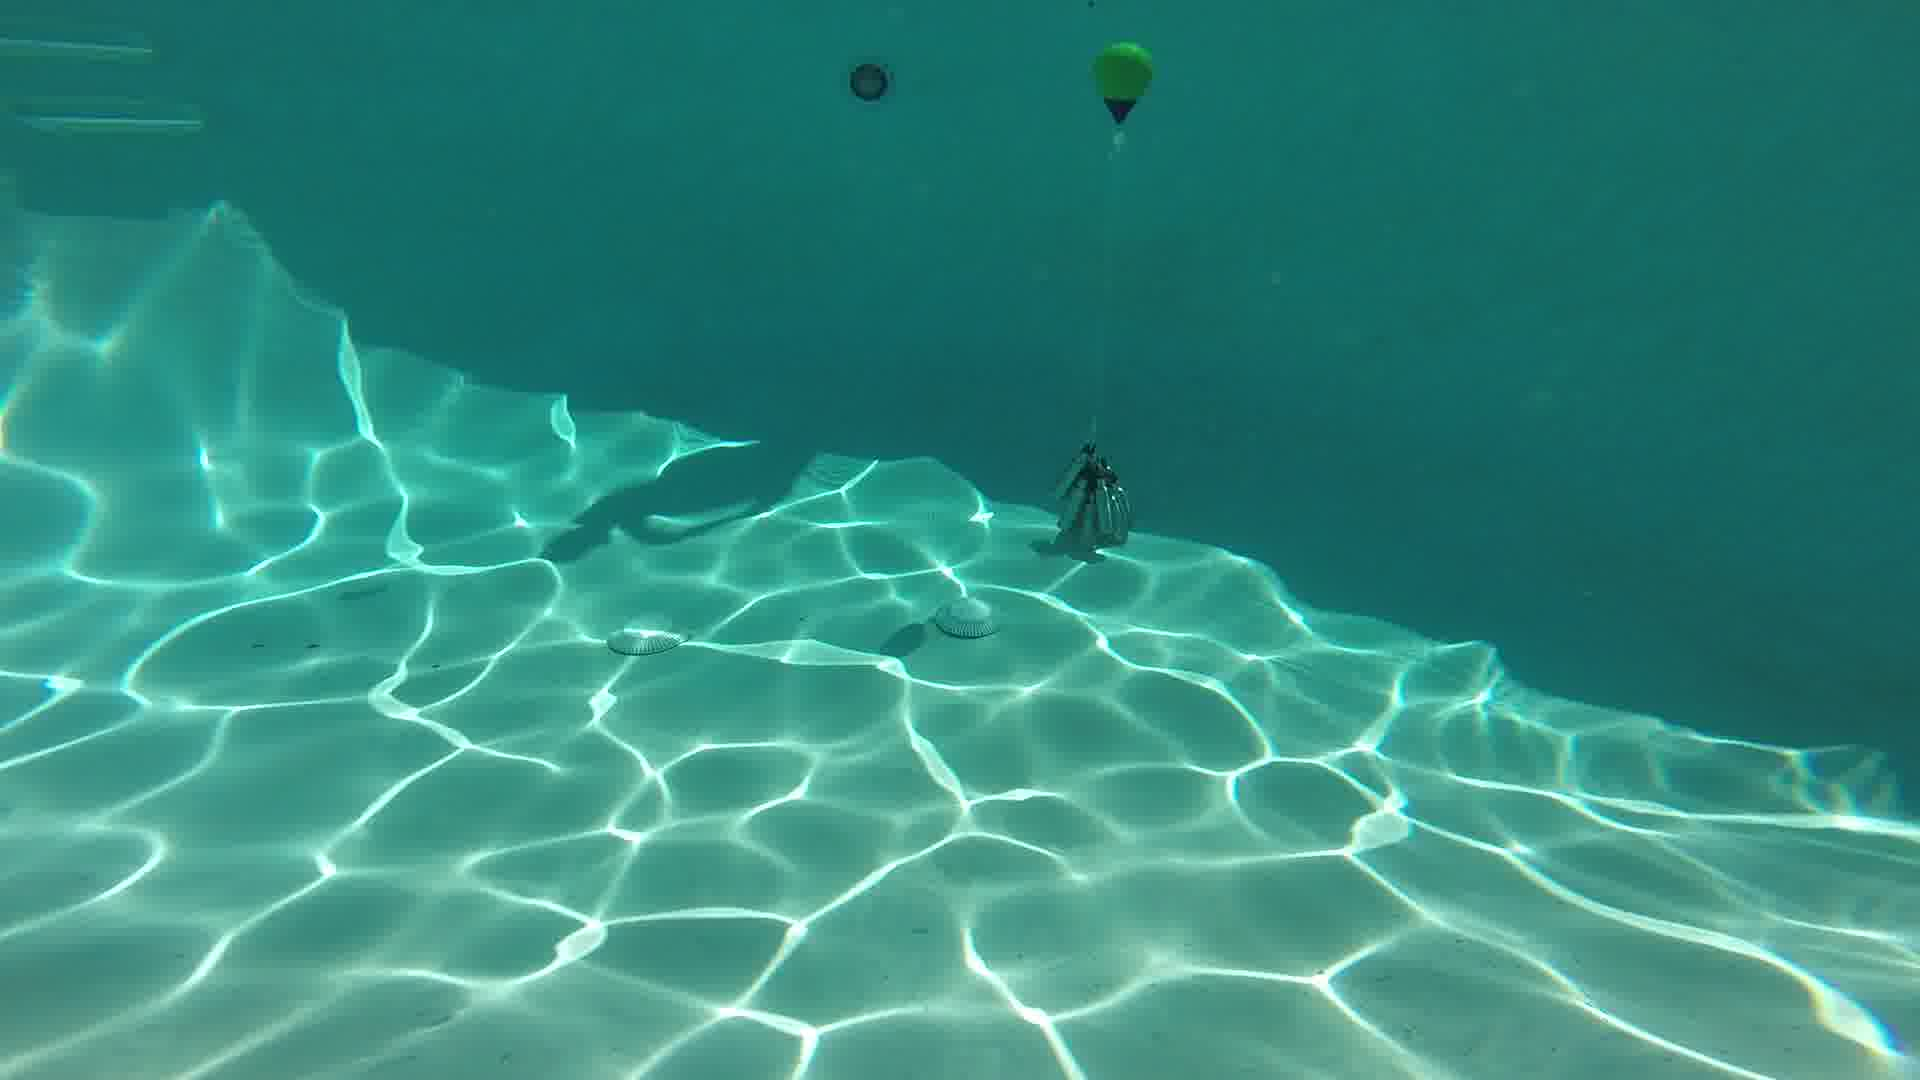yellow_buoy: (1098, 44, 1153, 125)
